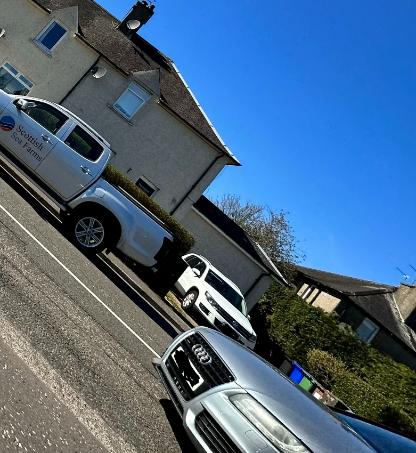car: (0, 84, 205, 282), (147, 303, 416, 453), (180, 230, 293, 339)
